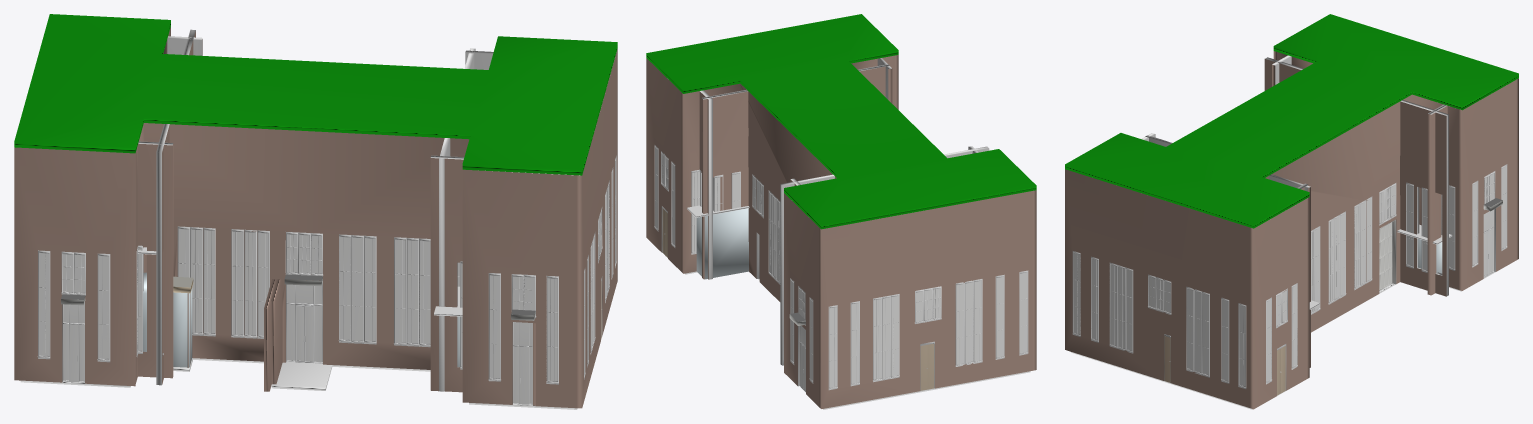
Rendered from WilcoxE.glb.
3 renders of one model, left to right at view 1: azimuth 30°, elevation 25°; view 2: azimuth 150°, elevation 25°; view 3: azimuth 270°, elevation 25°, orthographic. The views are drawn at different scales.
Parts seen in each view (by area): view 1: grp_1_ExteriorShell_none, grp_33_Roofs_Roof Plan, grp_10_ExteriorShell_none, grp_7_ExteriorShell_none, grp_42_Walls_Level 1, grp_6_ExteriorShell_none, grp_41_Walls_Level 1, grp_29_Floors_Level 1, grp_38_Rooms_Level 1, grp_2_ExteriorShell_none, grp_45_Windows_Level 1, grp_11_ExteriorShell_none; view 2: grp_1_ExteriorShell_none, grp_10_ExteriorShell_none, grp_33_Roofs_Roof Plan, grp_7_ExteriorShell_none, grp_6_ExteriorShell_none, grp_42_Walls_Level 1, grp_38_Rooms_Level 1, grp_41_Walls_Level 1, grp_4_ExteriorShell_none, grp_45_Windows_Level 1, grp_44_Windows_Level 1, grp_29_Floors_Level 1; view 3: grp_1_ExteriorShell_none, grp_10_ExteriorShell_none, grp_33_Roofs_Roof Plan, grp_7_ExteriorShell_none, grp_42_Walls_Level 1, grp_6_ExteriorShell_none, grp_41_Walls_Level 1, grp_8_ExteriorShell_none, grp_45_Windows_Level 1, grp_44_Windows_Level 1, grp_29_Floors_Level 1, grp_4_ExteriorShell_none.
Part boxes in pixels (bbox=[...]): grp_1_ExteriorShell_none: bbox=[14, 26, 617, 408]; grp_33_Roofs_Roof Plan: bbox=[14, 14, 617, 175]; grp_10_ExteriorShell_none: bbox=[14, 14, 617, 169]; grp_7_ExteriorShell_none: bbox=[39, 158, 616, 404]; grp_42_Walls_Level 1: bbox=[138, 31, 535, 405]; grp_6_ExteriorShell_none: bbox=[37, 155, 616, 384]; grp_41_Walls_Level 1: bbox=[138, 29, 493, 391]; grp_29_Floors_Level 1: bbox=[20, 358, 577, 409]; grp_38_Rooms_Level 1: bbox=[76, 272, 460, 367]; grp_2_ExteriorShell_none: bbox=[62, 282, 602, 404]; grp_45_Windows_Level 1: bbox=[138, 248, 462, 366]; grp_11_ExteriorShell_none: bbox=[61, 277, 535, 320]; grp_1_ExteriorShell_none: bbox=[646, 55, 1036, 408]; grp_10_ExteriorShell_none: bbox=[646, 14, 1036, 229]; grp_33_Roofs_Roof Plan: bbox=[648, 15, 1035, 228]; grp_7_ExteriorShell_none: bbox=[655, 147, 1027, 390]; grp_6_ExteriorShell_none: bbox=[654, 145, 1028, 390]; grp_42_Walls_Level 1: bbox=[699, 66, 892, 279]; grp_38_Rooms_Level 1: bbox=[696, 208, 748, 279]; grp_41_Walls_Level 1: bbox=[700, 58, 989, 365]; grp_4_ExteriorShell_none: bbox=[662, 208, 934, 390]; grp_45_Windows_Level 1: bbox=[700, 172, 739, 211]; grp_44_Windows_Level 1: bbox=[699, 170, 740, 211]; grp_29_Floors_Level 1: bbox=[685, 271, 1030, 409]; grp_1_ExteriorShell_none: bbox=[1065, 51, 1518, 409]; grp_10_ExteriorShell_none: bbox=[1065, 14, 1518, 228]; grp_33_Roofs_Roof Plan: bbox=[1065, 16, 1518, 223]; grp_7_ExteriorShell_none: bbox=[1073, 166, 1506, 386]; grp_42_Walls_Level 1: bbox=[1264, 59, 1447, 367]; grp_6_ExteriorShell_none: bbox=[1072, 164, 1507, 389]; grp_41_Walls_Level 1: bbox=[1141, 55, 1495, 296]; grp_8_ExteriorShell_none: bbox=[1379, 219, 1395, 290]; grp_45_Windows_Level 1: bbox=[1407, 185, 1427, 270]; grp_44_Windows_Level 1: bbox=[1406, 182, 1442, 272]; grp_29_Floors_Level 1: bbox=[1071, 266, 1505, 409]; grp_4_ExteriorShell_none: bbox=[1277, 346, 1285, 395].
Size of the model in its own units: 69.75 by 29.25 by 63.75.
